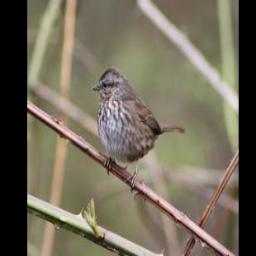Sparrow: (89, 63, 188, 194)
